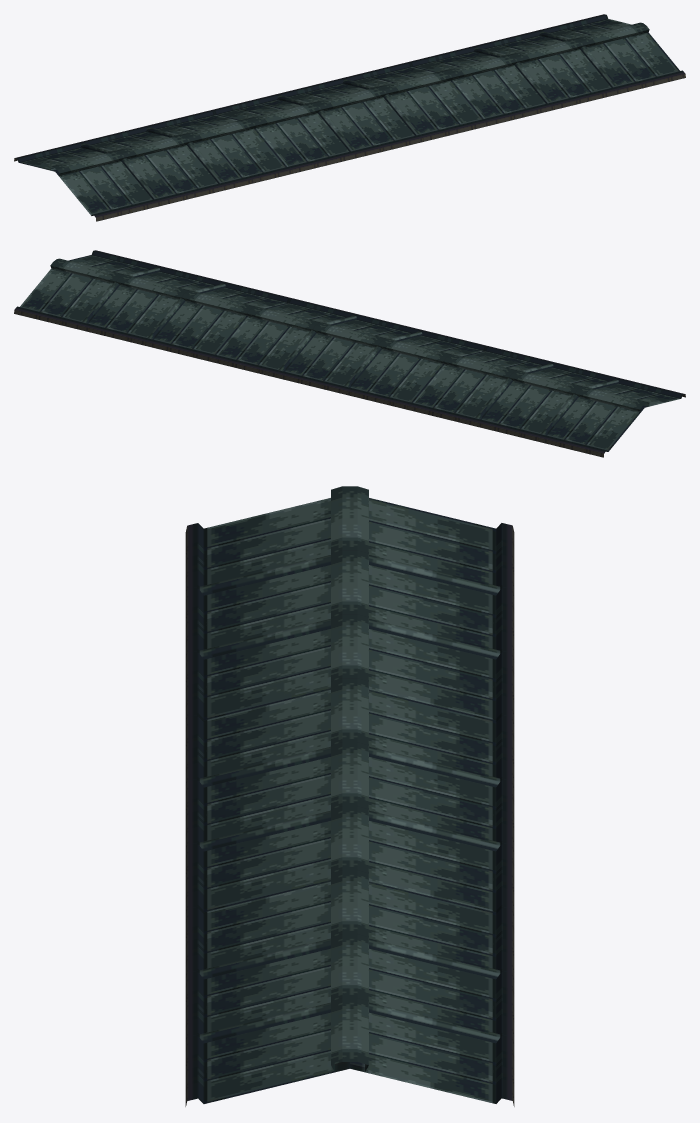
File: EnvBdgMD_Theater_A_Outdoor_RoofSide_A.FBX
The picture shows the model from 3 angles, top to bottom: view 1: azimuth 30°, elevation 25°; view 2: azimuth 150°, elevation 25°; view 3: azimuth 270°, elevation 25°; orthographic projection. The views are drawn at different scales.
Parts seen in each view (by area): view 1: EnvBdgMD_Theater_A_Outdoor_RoofSide_A; view 2: EnvBdgMD_Theater_A_Outdoor_RoofSide_A; view 3: EnvBdgMD_Theater_A_Outdoor_RoofSide_A.
Part boxes in pixels (left/top/right/bottom): EnvBdgMD_Theater_A_Outdoor_RoofSide_A: left=14, top=14, right=685, bottom=221; EnvBdgMD_Theater_A_Outdoor_RoofSide_A: left=14, top=250, right=685, bottom=457; EnvBdgMD_Theater_A_Outdoor_RoofSide_A: left=185, top=486, right=514, bottom=1106.
Bounding box in the file's own units: 1800 × 68.23 × 435.
Materials: 1 (1 with a texture image).
